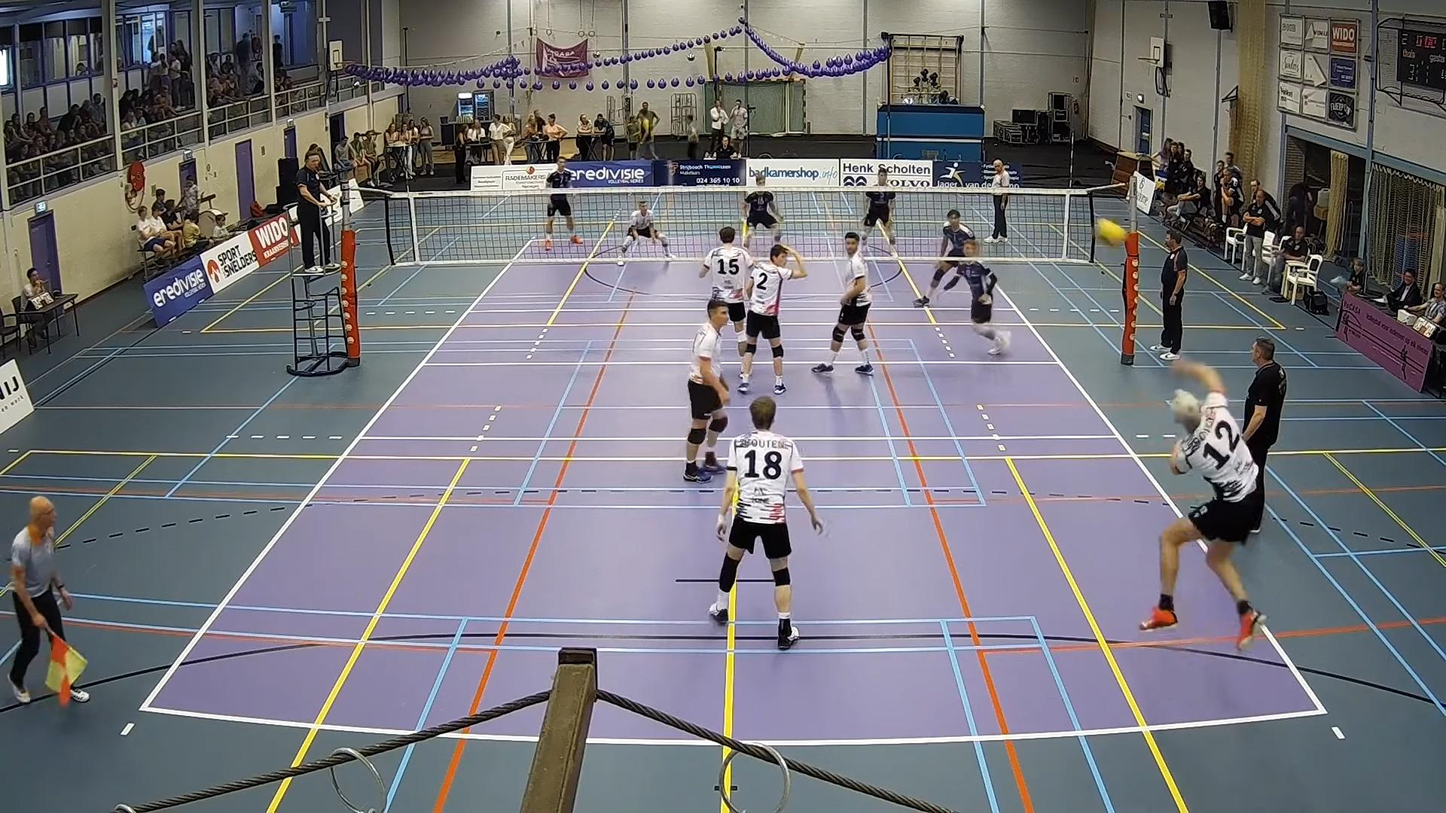Player: (709, 396, 822, 649), (738, 244, 807, 394), (812, 231, 873, 374), (684, 300, 729, 482), (699, 227, 752, 358), (945, 259, 1010, 355), (914, 209, 977, 306), (618, 200, 673, 263), (544, 157, 581, 250), (861, 168, 896, 255), (741, 173, 782, 244)
Serve: (1138, 352, 1269, 651)
ball: (1095, 219, 1128, 248)
